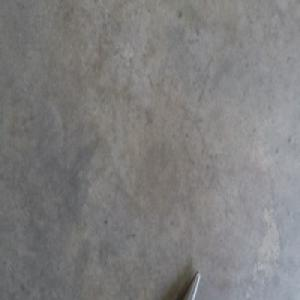Pliers: (181, 271, 202, 298)
